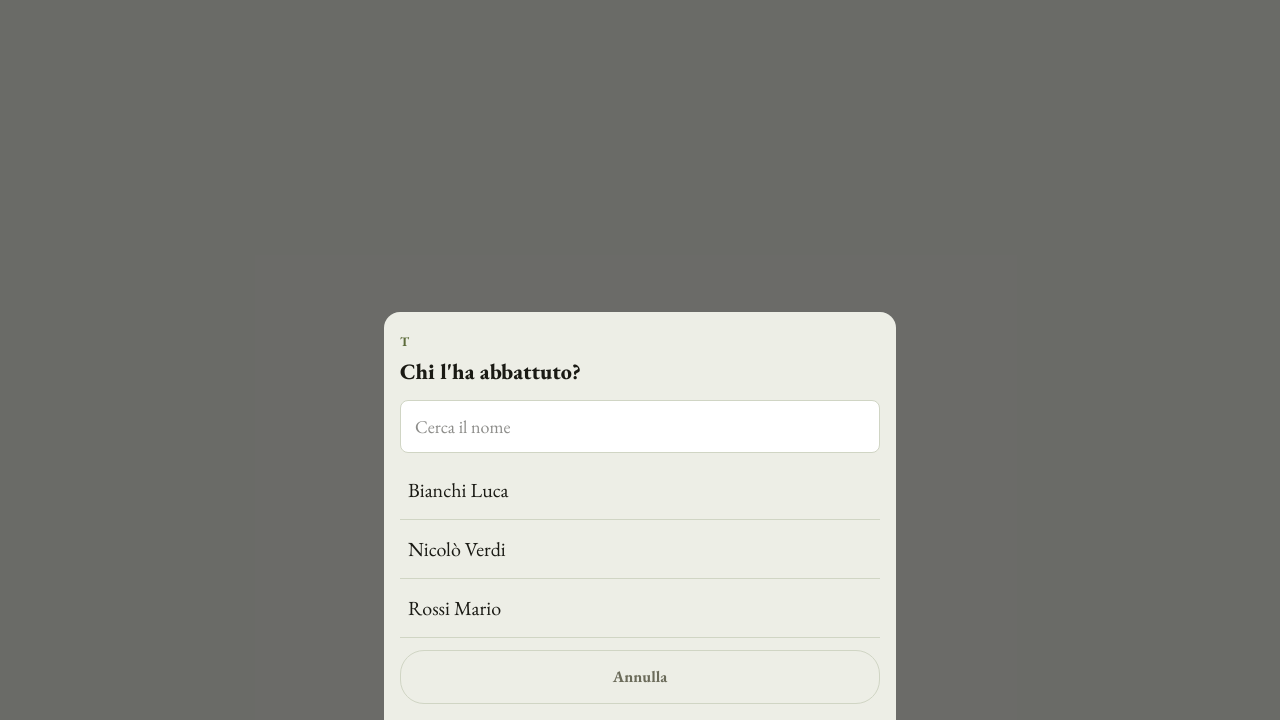
it: RegistraCapo › la ricerca ignora maiuscole e accenti
The image size is (1280, 720).
Type "nicolo" into the field labelled "Cerca il nome".
click(640, 426); type("nicolo")  # box [400,400,880,453]
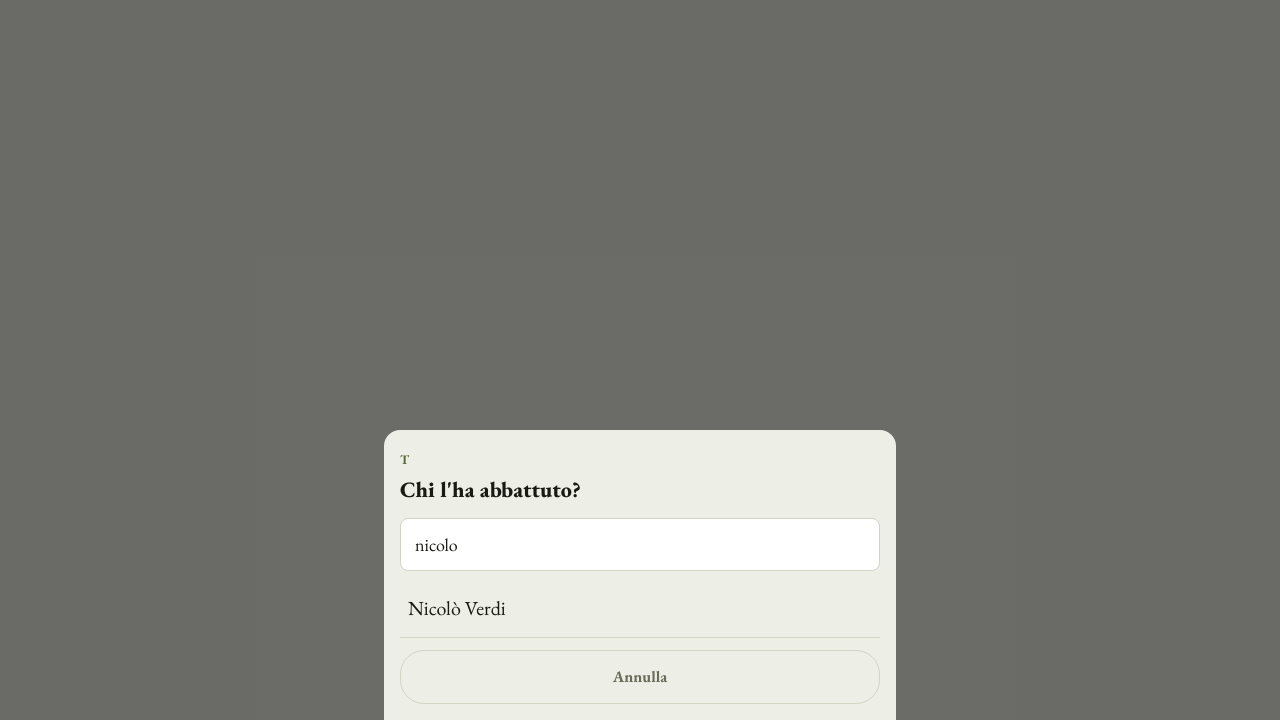
Expected: the button "Nicolò Verdi" is shown, [400,579,880,638]
Result: the button "Rossi Mario" is gone
